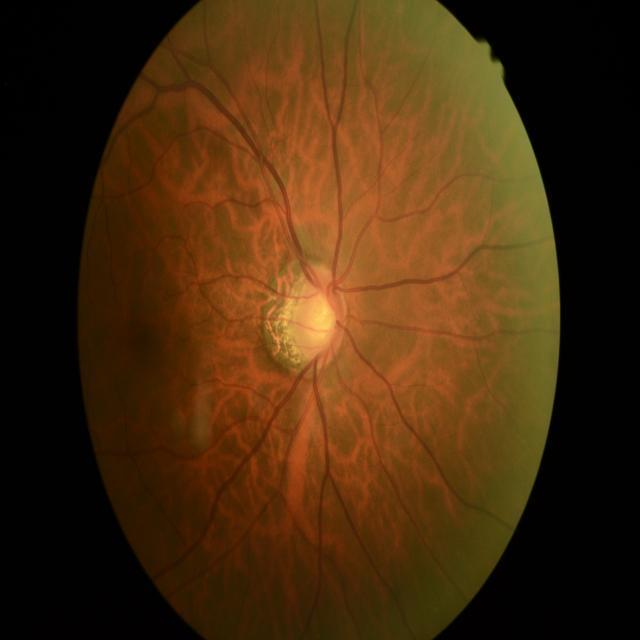cup: (301, 284, 338, 356)
disk: (288, 266, 348, 368)
